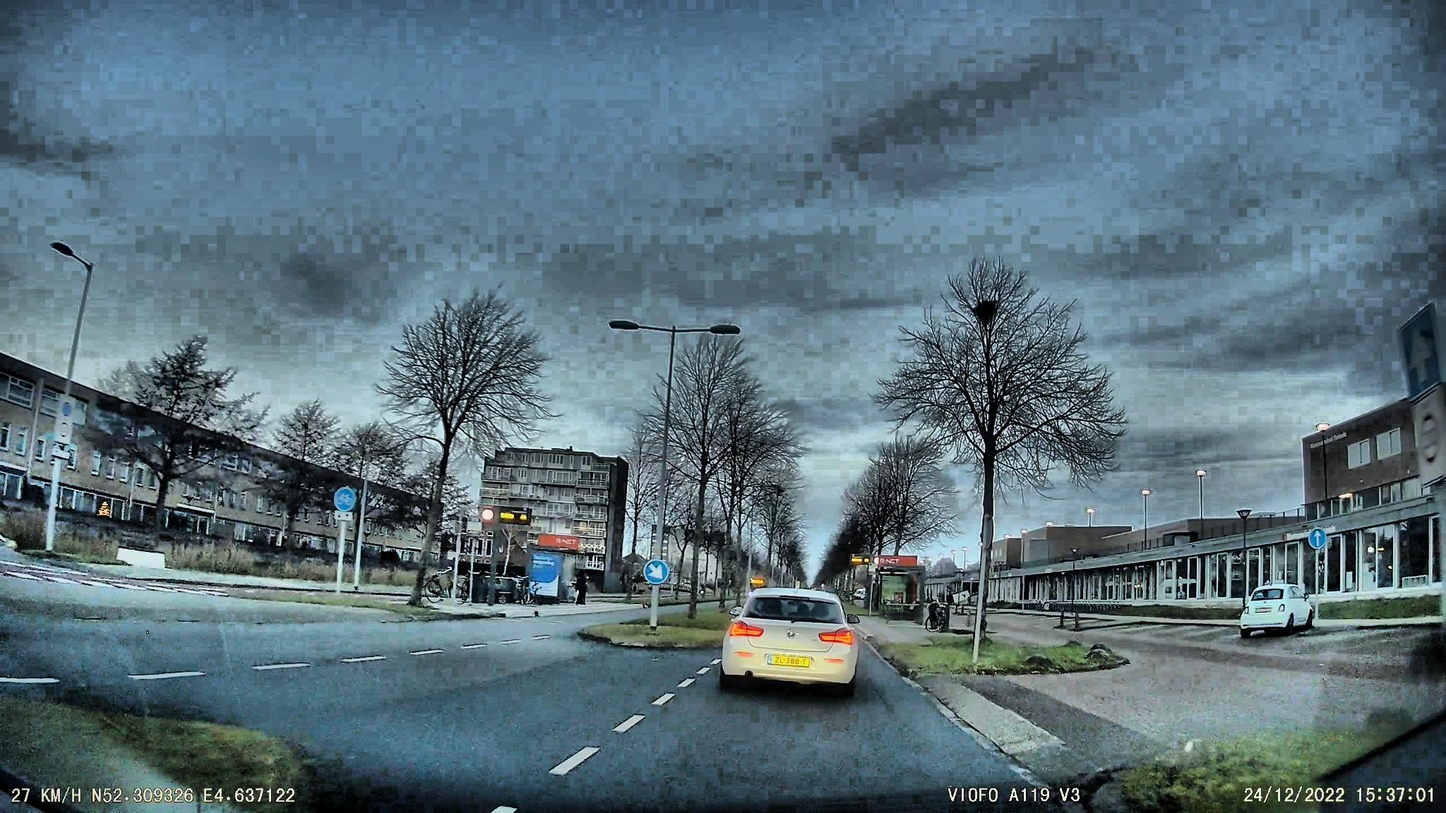Roads: (0, 589, 1433, 813)
